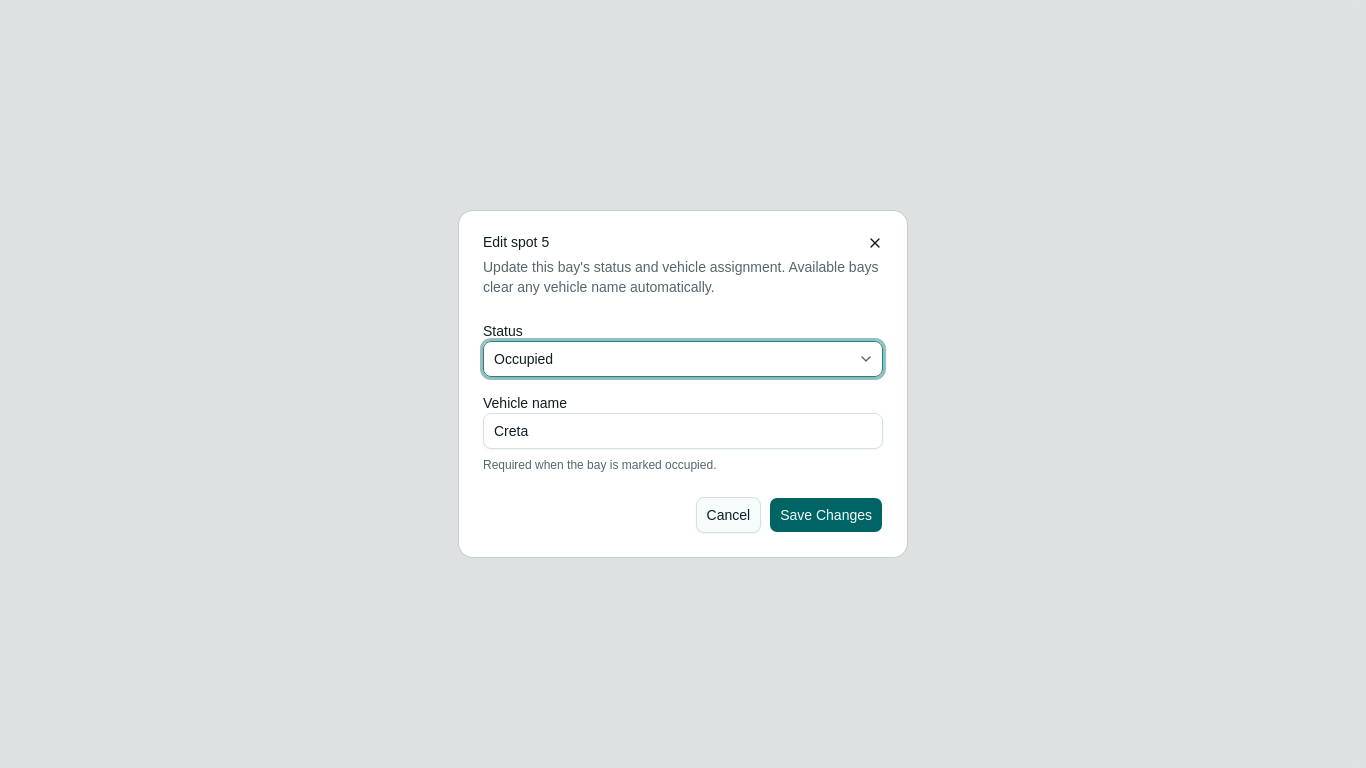
EditModal › disables save for occupied status without a vehicle name
Clear the field with placeholder "Vehicle name" at (683, 431), box [483,413,883,449]
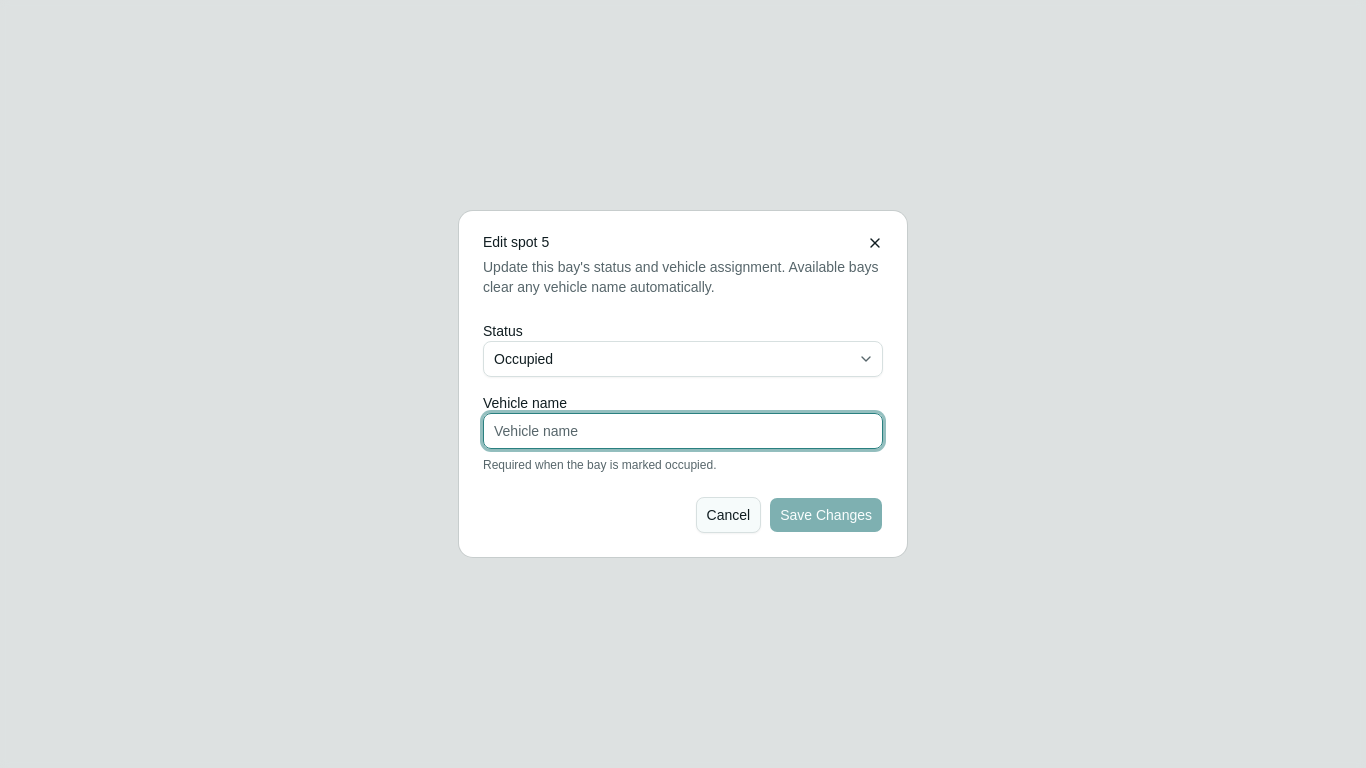
Result: the button "Save Changes" is disabled at [769,497,883,533]
